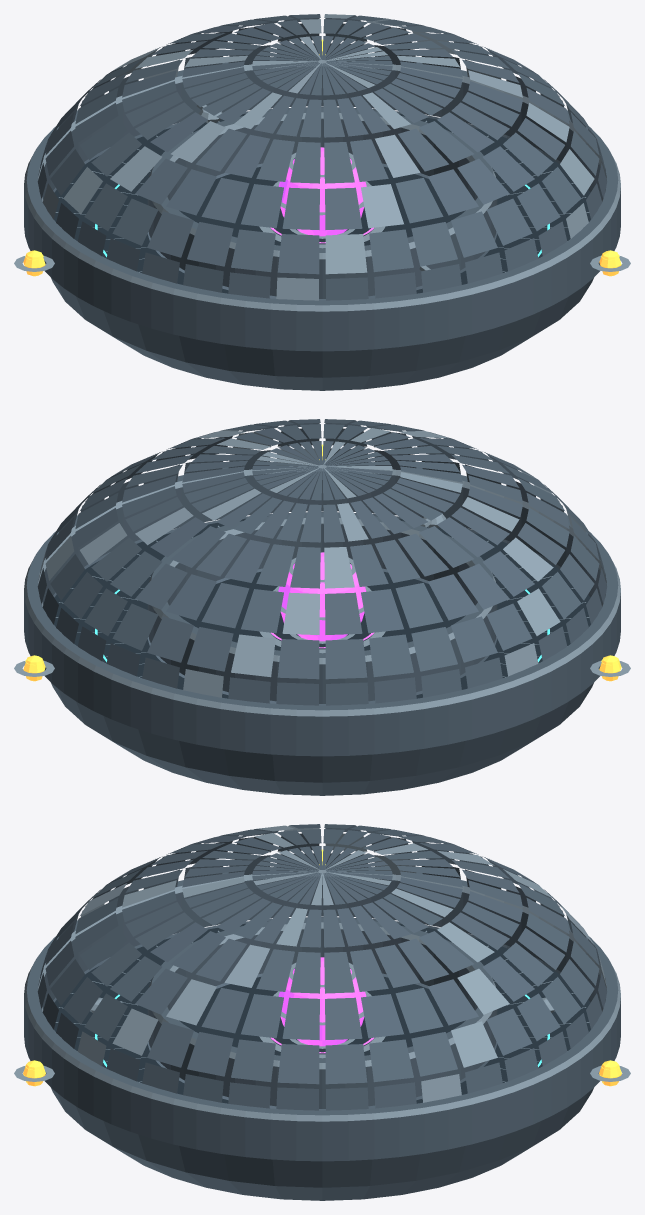
The model's file is esfera-vacio.glb.
3 renders of one model, top to bottom at view 1: azimuth 30°, elevation 25°; view 2: azimuth 150°, elevation 25°; view 3: azimuth 270°, elevation 25°, orthographic.
Parts seen in each view (by area): view 1: VOID_ROOF, VOID_OUTER_WALL, VOID_UNDERSIDE, VOID_INNER_WALL, VOID_CORRIDOR, VOID_OUTER_GATE, VOID_CHAMBER, VOID_CORE, VOID_INNER_GATE, VOID_DECK_SEAMS; view 2: VOID_ROOF, VOID_OUTER_WALL, VOID_UNDERSIDE, VOID_INNER_WALL, VOID_CORRIDOR, VOID_OUTER_GATE, VOID_CHAMBER, VOID_CORE, VOID_INNER_GATE, VOID_DECK_SEAMS; view 3: VOID_ROOF, VOID_OUTER_WALL, VOID_UNDERSIDE, VOID_INNER_WALL, VOID_CORRIDOR, VOID_CHAMBER, VOID_OUTER_GATE, VOID_INNER_GATE, VOID_CORE, VOID_DECK_SEAMS.
Boxes of the visible parts, left/top/right/bottom form: VOID_ROOF: left=37, top=14, right=607, bottom=300; VOID_OUTER_WALL: left=24, top=55, right=620, bottom=351; VOID_UNDERSIDE: left=51, top=106, right=593, bottom=390; VOID_INNER_WALL: left=147, top=107, right=497, bottom=298; VOID_CORRIDOR: left=54, top=111, right=590, bottom=293; VOID_OUTER_GATE: left=28, top=201, right=138, bottom=321; VOID_CHAMBER: left=179, top=167, right=465, bottom=245; VOID_CORE: left=278, top=147, right=366, bottom=236; VOID_INNER_GATE: left=401, top=118, right=495, bottom=200; VOID_DECK_SEAMS: left=55, top=120, right=589, bottom=272; VOID_ROOF: left=37, top=419, right=607, bottom=705; VOID_OUTER_WALL: left=24, top=460, right=620, bottom=756; VOID_UNDERSIDE: left=51, top=511, right=593, bottom=795; VOID_INNER_WALL: left=147, top=512, right=497, bottom=703; VOID_CORRIDOR: left=54, top=516, right=590, bottom=698; VOID_OUTER_GATE: left=506, top=606, right=616, bottom=726; VOID_CHAMBER: left=179, top=572, right=465, bottom=650; VOID_CORE: left=278, top=552, right=366, bottom=641; VOID_INNER_GATE: left=149, top=523, right=243, bottom=605; VOID_DECK_SEAMS: left=55, top=525, right=589, bottom=677; VOID_ROOF: left=37, top=824, right=607, bottom=1110; VOID_OUTER_WALL: left=24, top=879, right=620, bottom=1161; VOID_UNDERSIDE: left=51, top=916, right=593, bottom=1200; VOID_INNER_WALL: left=147, top=917, right=497, bottom=1097; VOID_CORRIDOR: left=54, top=921, right=590, bottom=1103; VOID_CHAMBER: left=179, top=977, right=465, bottom=1055; VOID_OUTER_GATE: left=222, top=865, right=422, bottom=920; VOID_INNER_GATE: left=235, top=1055, right=409, bottom=1108; VOID_CORE: left=278, top=957, right=366, bottom=1046; VOID_DECK_SEAMS: left=55, top=930, right=589, bottom=1082.
Size of the model in its own units: 921 by 430 by 872.
